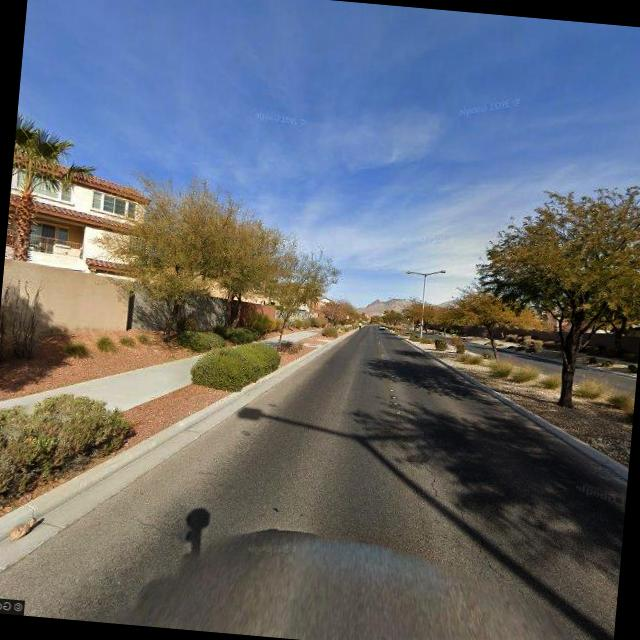pothole: (408, 441, 510, 575)
